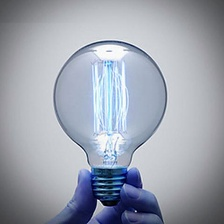light_bulb: (47, 34, 172, 209)
